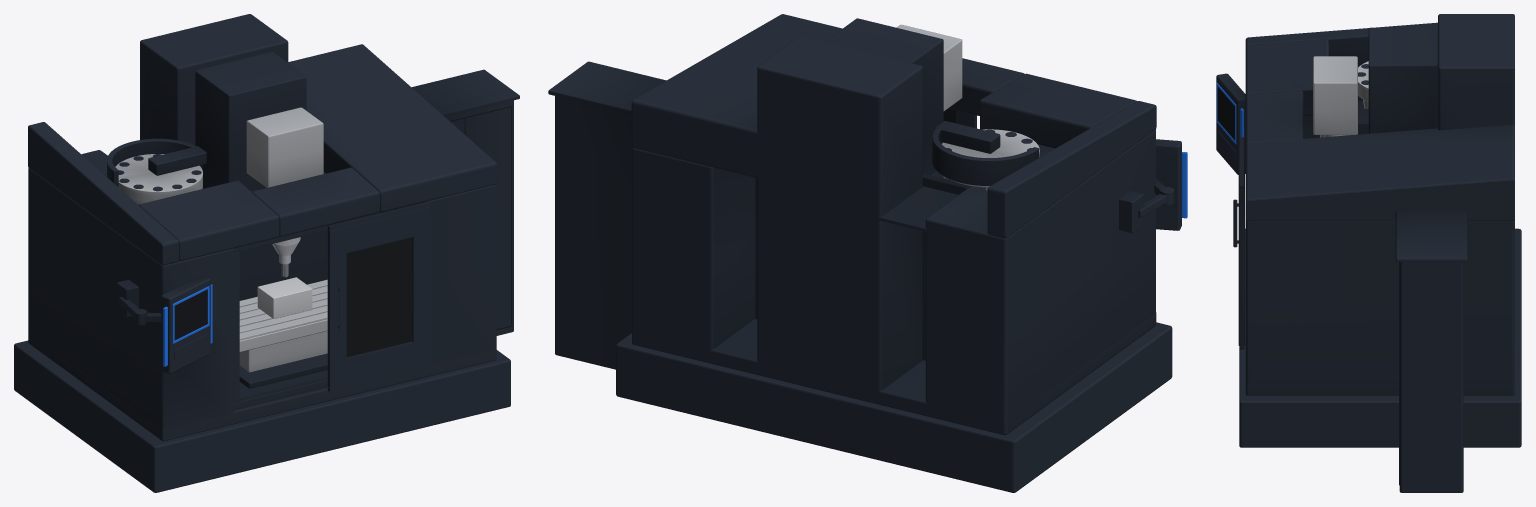
The model's file is cnc_vmc.glb.
The picture shows the model from 3 angles, left to right: view 1: azimuth 30°, elevation 25°; view 2: azimuth 150°, elevation 25°; view 3: azimuth 270°, elevation 25°; orthographic projection. The views are drawn at different scales.
Parts seen in each view (by area): view 1: body_merged, door_merged, electrical_merged, spindle_static_merged, panel_merged, table_merged, magazine_rotor_merged, magazine_static_merged, workpiece_block; view 2: body_merged, electrical_merged, magazine_static_merged, panel_merged, spindle_static_merged, magazine_rotor_merged; view 3: body_merged, electrical_merged, spindle_static_merged, panel_merged, door_merged, magazine_rotor_merged.
Boxes of the visible parts, x1,y1,x2,y2 form: body_merged: (14,14,510,492); door_merged: (327,201,430,391); electrical_merged: (412,69,519,335); spindle_static_merged: (246,107,323,255); panel_merged: (117,276,212,373); table_merged: (239,279,327,372); magazine_rotor_merged: (115,154,202,204); magazine_static_merged: (107,138,206,186); workpiece_block: (257,277,312,318); body_merged: (616,14,1172,492); electrical_merged: (548,61,666,369); magazine_static_merged: (932,121,1039,185); panel_merged: (1119,139,1187,233); spindle_static_merged: (896,24,962,111); magazine_rotor_merged: (942,129,1039,190); body_merged: (1239,14,1521,447); electrical_merged: (1395,211,1467,492); spindle_static_merged: (1313,56,1357,137); panel_merged: (1216,73,1245,174); door_merged: (1233,137,1244,349); magazine_rotor_merged: (1358,61,1368,108).
Bounding box in the file's own units: 4.07 × 2.8 × 2.38.
